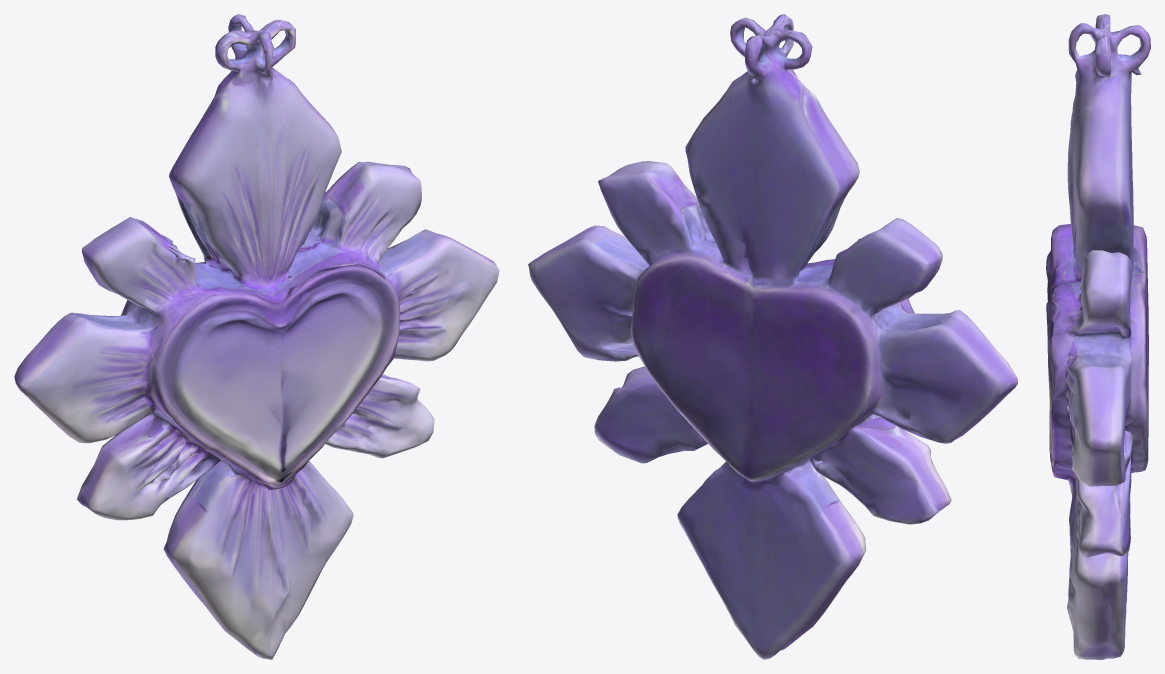
Rendered from Sparkle_Heart_Pendant_0704170231_texture.glb.
The picture shows the model from 3 angles, left to right: view 1: azimuth 30°, elevation 25°; view 2: azimuth 150°, elevation 25°; view 3: azimuth 270°, elevation 25°; orthographic projection.
Size of the model in its own units: 1.59 by 1.99 by 0.2978.
1 material, 1 textured.
